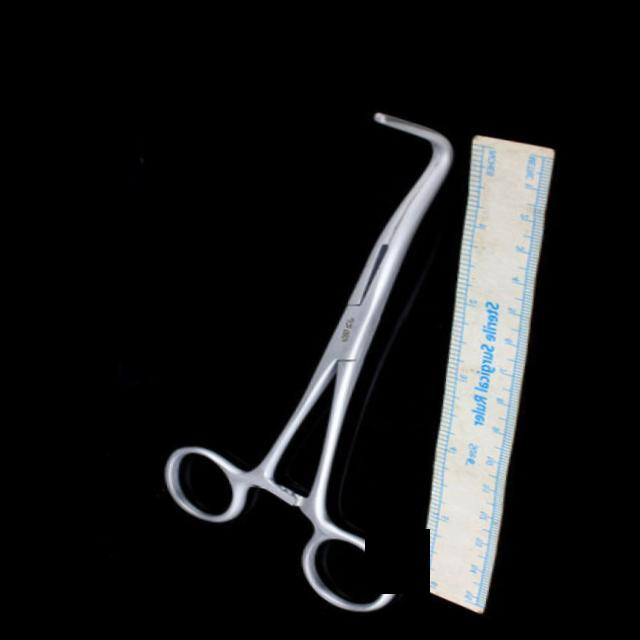Rectangle Cholecystectomy Forceps: (102, 66, 493, 633)
